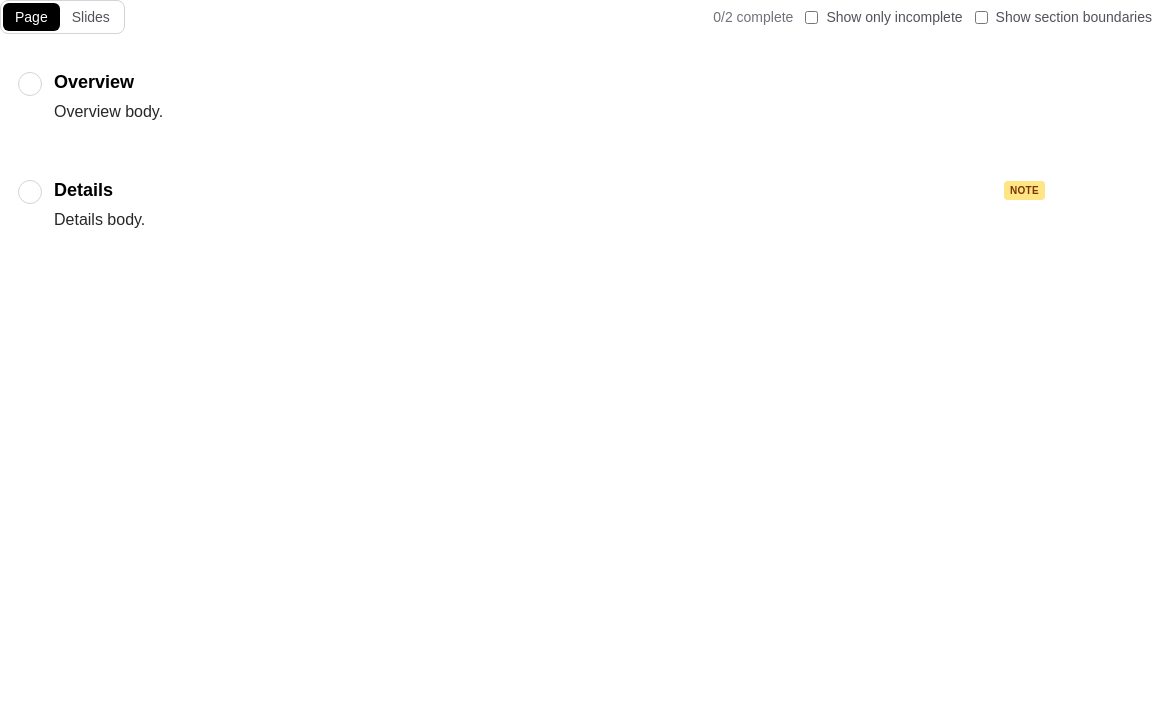
Test: ContentBlocks › opens the notes panel as a modal when a block is clicked
Step 1. Click the button "Details Note" → [84, 190], box [54, 176, 1134, 204]
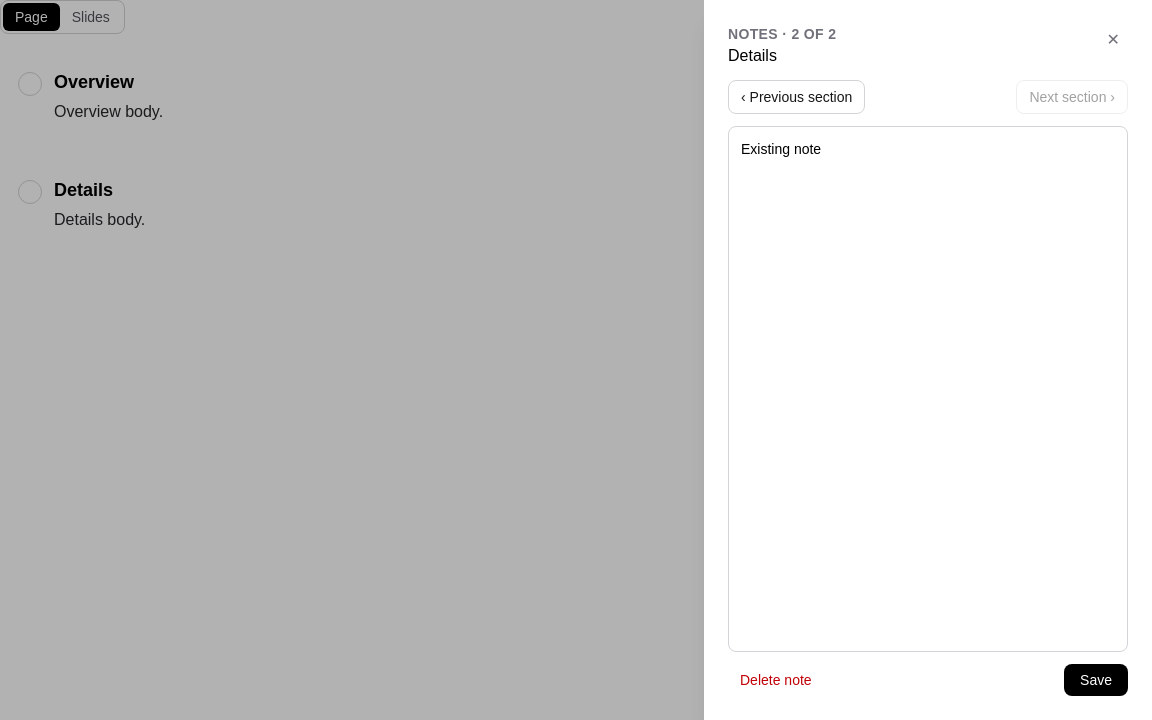
Expected: the text box showing "Existing note" is shown, [728, 126, 1128, 652]
